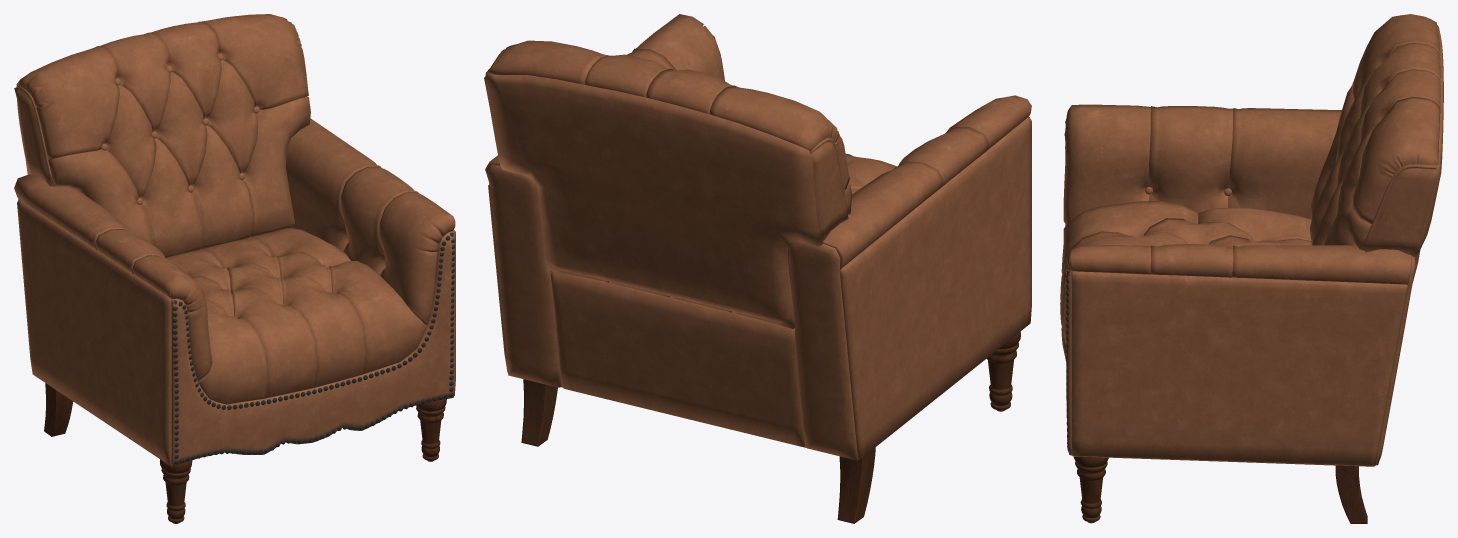
The model's file is Armchair_2.glb.
The picture shows the model from 3 angles, left to right: view 1: azimuth 30°, elevation 25°; view 2: azimuth 150°, elevation 25°; view 3: azimuth 270°, elevation 25°; orthographic projection. The views are drawn at different scales.
Visible parts, largest first — view 1: Cushion.001, Leg.001, Metal.001; view 2: Cushion.001, Leg.001; view 3: Cushion.001, Leg.001, Cushion.002.
Boxes of the visible parts, x1,y1,x2,y2 form: Cushion.001: (14,14,455,466); Leg.001: (44,383,446,523); Metal.001: (172,232,454,464); Cushion.001: (484,14,1031,460); Leg.001: (521,331,1020,523); Cushion.001: (1060,14,1443,466); Leg.001: (1073,456,1367,523); Cushion.002: (1362,164,1436,250).
Size of the model in its own units: 0.8253 by 0.9524 by 0.8569.
4 materials, 2 textured.
